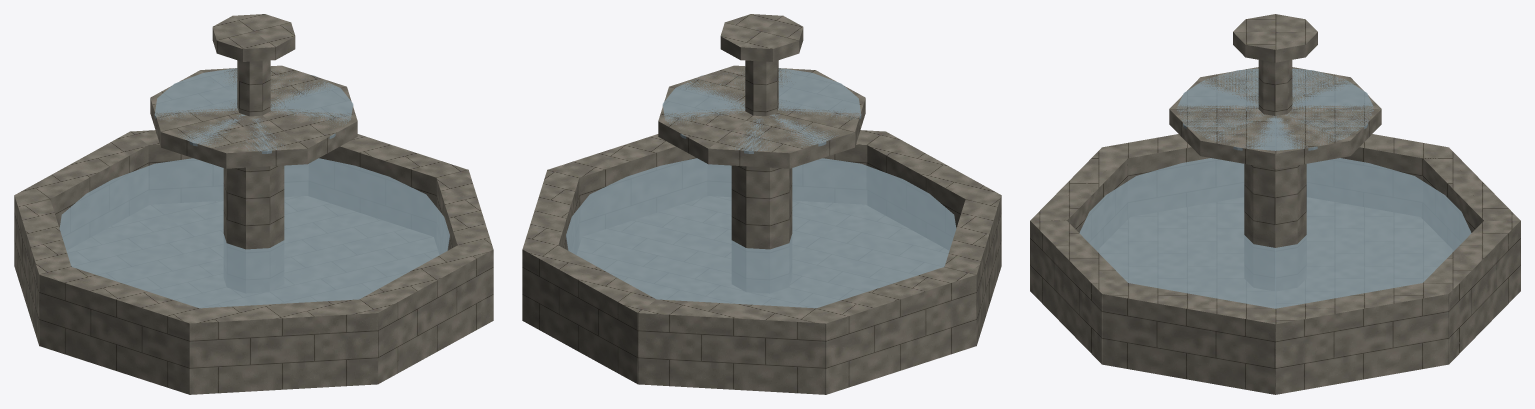
File: bld_fountain_a_LOD1.glb
3 views of the same model, side by side, from view 1: azimuth 30°, elevation 25°; view 2: azimuth 150°, elevation 25°; view 3: azimuth 270°, elevation 25° (orthographic).
Parts seen in each view (by area): view 1: bld_fountain_a_stone, bld_fountain_a_water; view 2: bld_fountain_a_stone, bld_fountain_a_water; view 3: bld_fountain_a_stone, bld_fountain_a_water.
Part boxes in pixels (left/top/right/bottom): bld_fountain_a_stone: left=14, top=14, right=493, bottom=394; bld_fountain_a_water: left=59, top=68, right=449, bottom=308; bld_fountain_a_stone: left=522, top=14, right=1001, bottom=394; bld_fountain_a_water: left=566, top=68, right=956, bottom=308; bld_fountain_a_stone: left=1030, top=14, right=1520, bottom=394; bld_fountain_a_water: left=1079, top=68, right=1471, bottom=308.
Size of the model in its own units: 3.47 by 2.02 by 3.47.
Materials: 2 (1 with a texture image).
